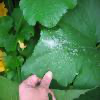Squash Powdery mildew leaf: (20, 24, 98, 83)
